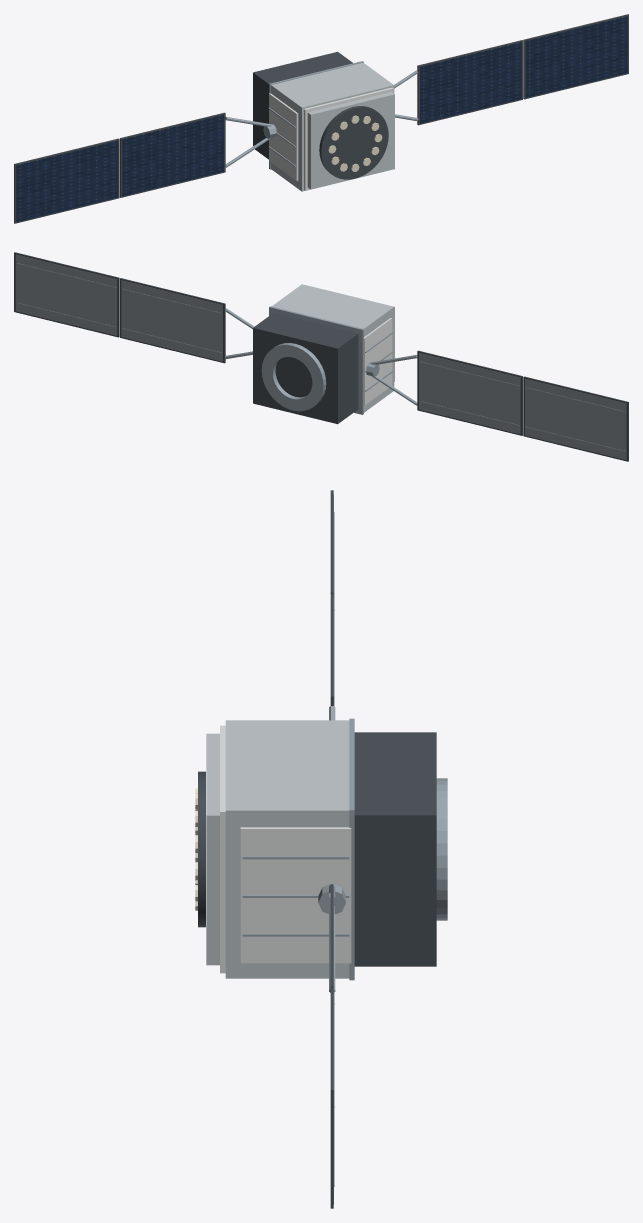
Rendered from ref-microgeo-56371.glb.
3 renders of one model, top to bottom at view 1: azimuth 30°, elevation 25°; view 2: azimuth 150°, elevation 25°; view 3: azimuth 270°, elevation 25°, orthographic. The views are drawn at different scales.
Visible parts, largest first — view 1: Solar cell panel (×4), Payload module, Planar antenna aperture, Antenna equipment shelf, Solar panel frame (×4), Service module, Radiator face, Earth-facing deck; view 2: Rear array substrate (×4), Service module, Payload module, Solar panel frame (×4), Launch adapter ring, Radiator face, Module interface; view 3: Service module, Payload module, Radiator face, Antenna equipment shelf, Launch adapter ring, Earth-facing deck, Module interface, Planar antenna aperture.
Boxes of the visible parts, x1,y1,x2,y2 form: Solar cell panel (×4): (16,16,627,222); Payload module: (271,62,394,191); Planar antenna aperture: (319,106,388,179); Antenna equipment shelf: (307,92,394,189); Solar panel frame (×4): (14,14,628,223); Service module: (253,51,352,159); Radiator face: (269,93,298,180); Earth-facing deck: (304,87,393,190); Rear array substrate (×4): (15,254,626,460); Service module: (253,313,358,424); Payload module: (272,284,394,412); Solar panel frame (×4): (14,252,628,461); Launch adapter ring: (261,343,326,411); Radiator face: (363,318,392,405); Module interface: (269,306,363,414); Service module: (354,732,436,966); Payload module: (225,720,349,978); Radiator face: (240,827,351,963); Antenna equipment shelf: (206,733,219,965); Launch adapter ring: (436,778,447,920); Earth-facing deck: (220,725,225,973); Module interface: (349,718,354,980); Planar antenna aperture: (198,771,205,927).
Bounding box in the file's own units: 9.98 × 1.32 × 1.78.
7 materials, 1 textured.
